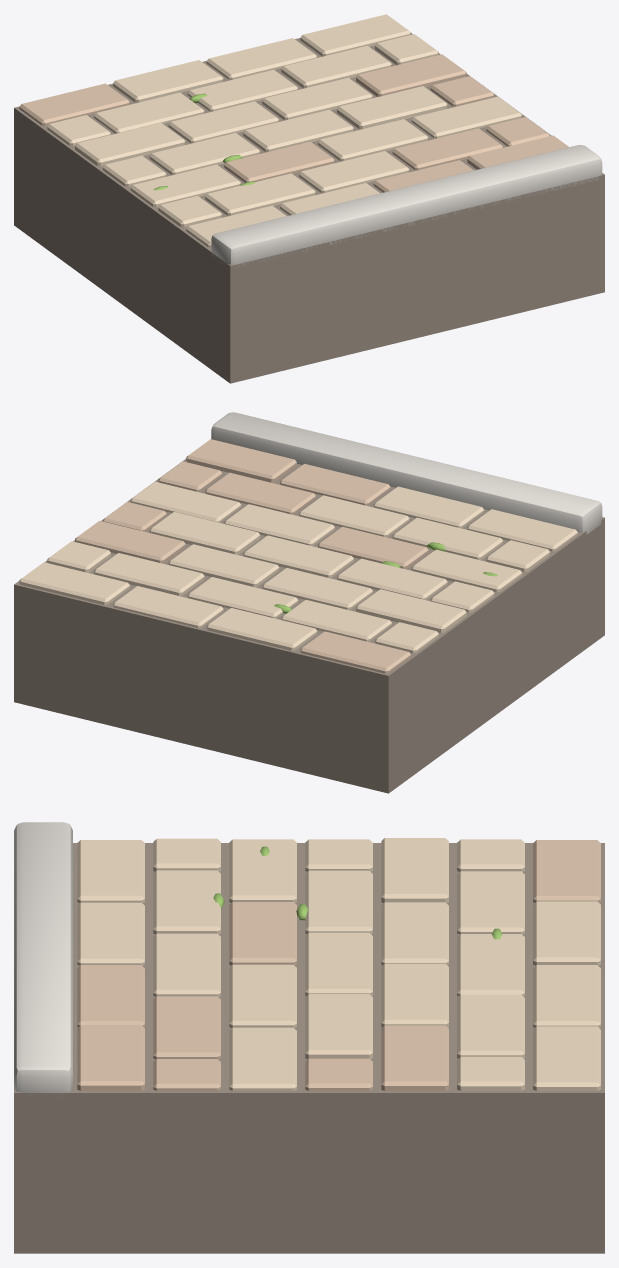
File: median_tile.glb
3 views of the same model, one above another, from view 1: azimuth 30°, elevation 25°; view 2: azimuth 150°, elevation 25°; view 3: azimuth 270°, elevation 25° (orthographic). The views are drawn at different scales.
Visible parts, largest first — view 1: median_tile; view 2: median_tile; view 3: median_tile.
Part boxes in pixels (x1=…): median_tile: x1=14, y1=14, x2=604, y2=383; median_tile: x1=14, y1=412, x2=604, y2=793; median_tile: x1=14, y1=822, x2=604, y2=1253.
Size of the model in its own units: 1 by 0.345 by 1.
